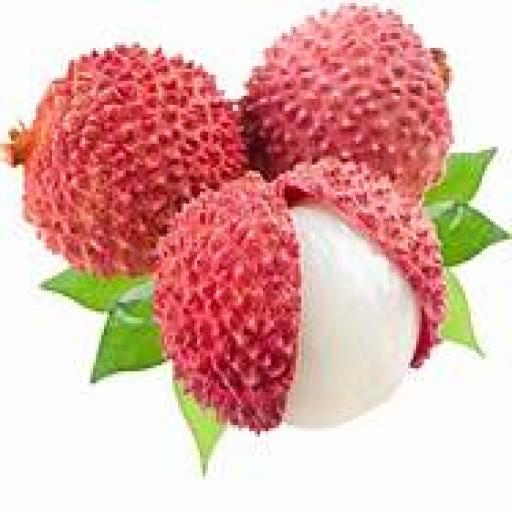lychee: (156, 159, 442, 431), (8, 45, 245, 275), (240, 6, 450, 200)
